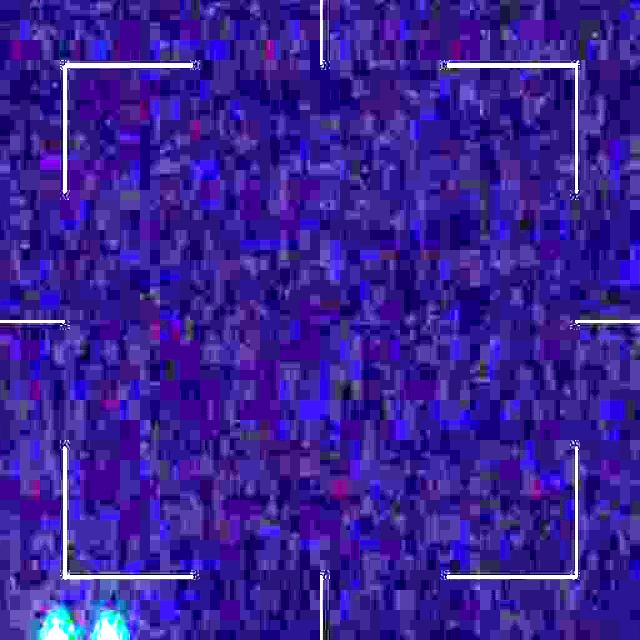bird: (44, 621, 122, 640)
